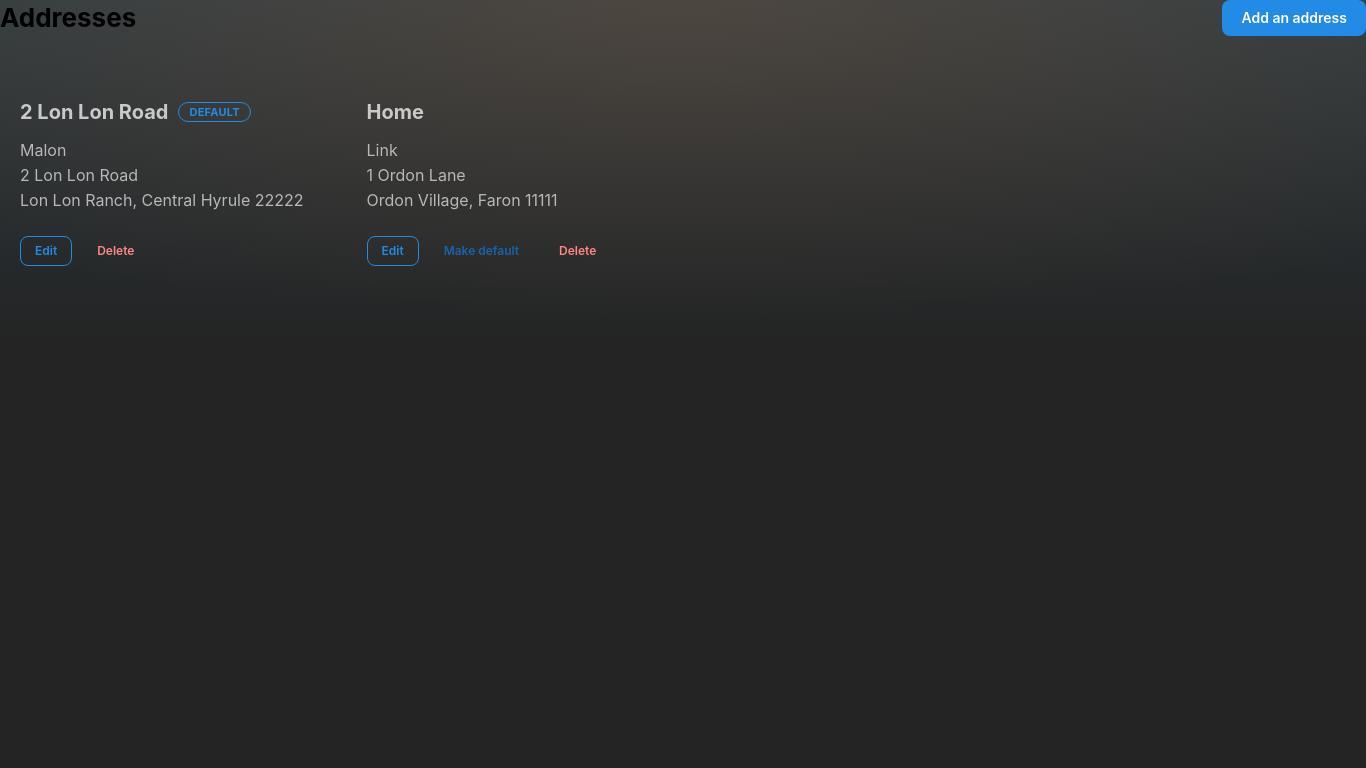
Test: AddressesSection › deletes an address after confirming and focuses the section heading
The image size is (1366, 768).
Expected: the heading "Home" is shown, left=366, top=100, right=424, bottom=124
Click the button "Delete" below "Ordon Village, Faron 11111": (578, 251) left=544, top=236, right=611, bottom=266
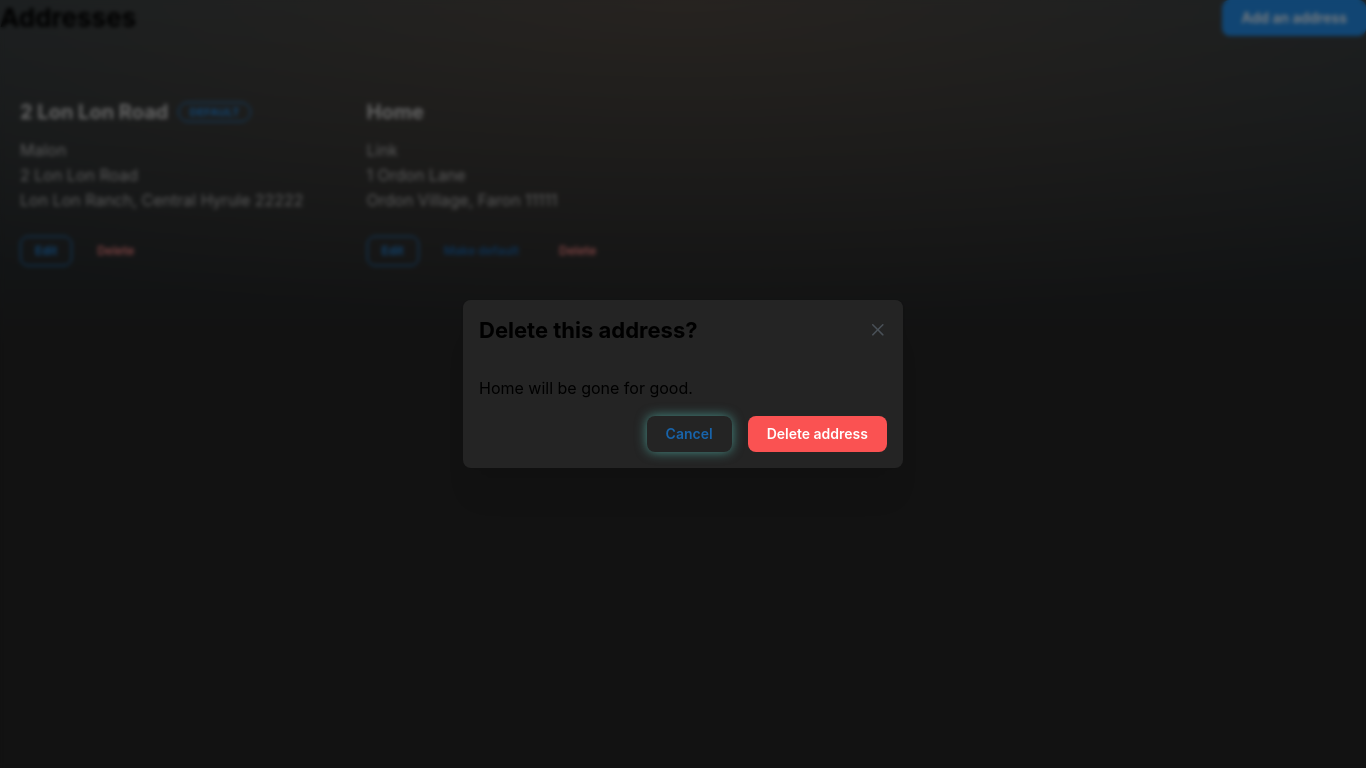
Expected: the text "Home will be gone for good." is shown, left=479, top=378, right=693, bottom=398
Click the button "Delete address": (817, 434) left=748, top=416, right=887, bottom=452
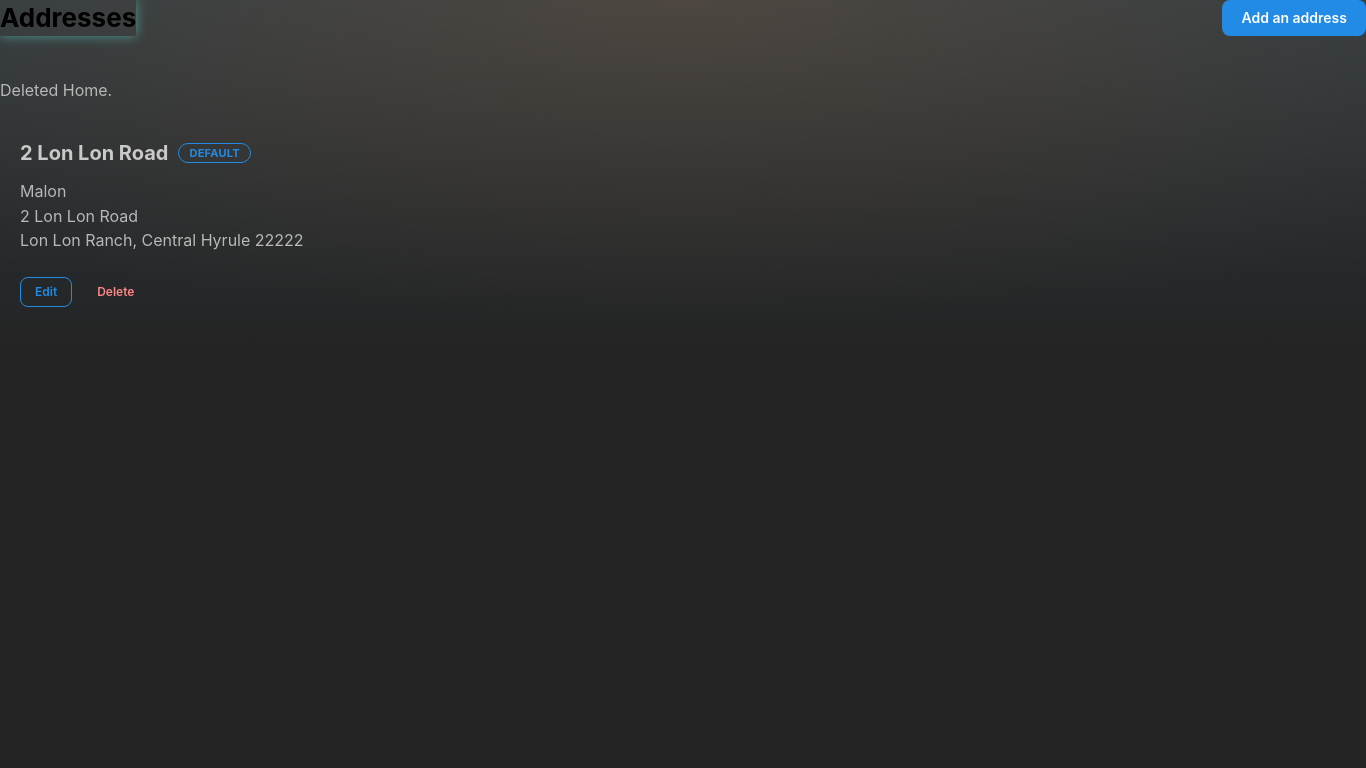
Expected: the dialog is gone
Expected: the message reads "Deleted Home.", left=0, top=80, right=112, bottom=100
